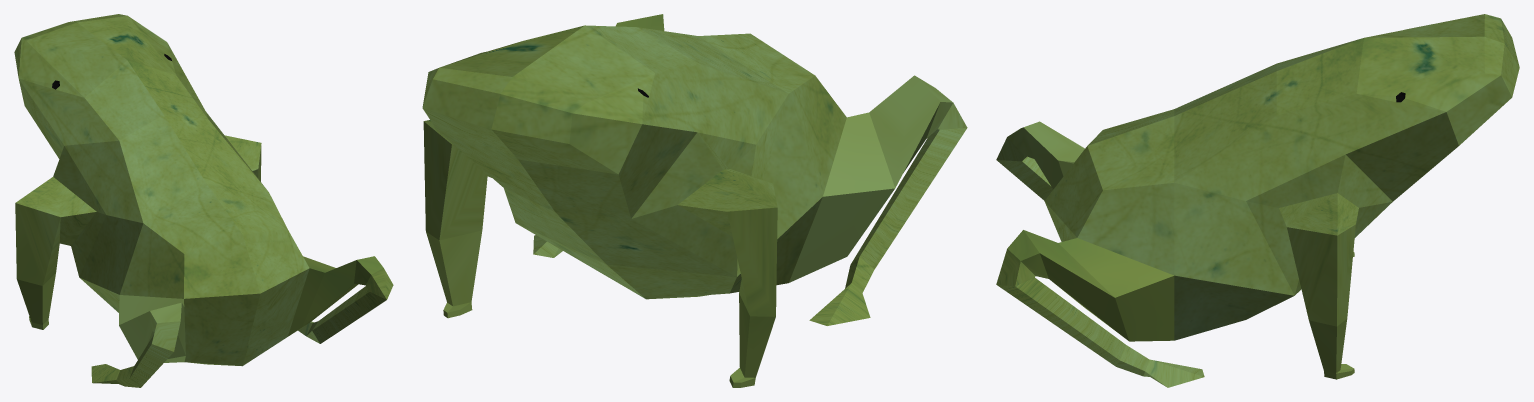
File: OroSapo.fbx
3 views of the same model, side by side, from view 1: azimuth 30°, elevation 25°; view 2: azimuth 150°, elevation 25°; view 3: azimuth 270°, elevation 25° (orthographic). The views are drawn at different scales.
Parts seen in each view (by area): view 1: Cube; view 2: Cube; view 3: Cube.
Boxes of the visible parts, x1,y1,x2,y2 form: Cube: (14,14,393,387); Cube: (422,14,967,387); Cube: (996,14,1519,387).
Bounding box in the file's own units: 239 × 229 × 366.
